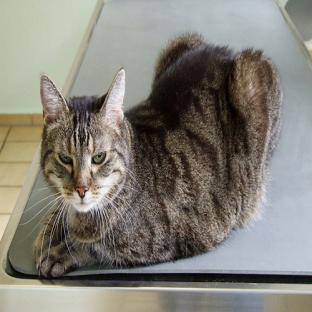Animal: (34, 33, 282, 277)
